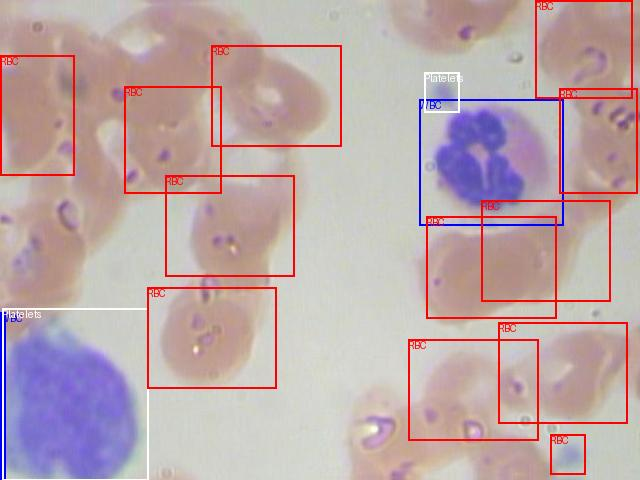Platelets: (2, 308, 148, 480), (424, 72, 459, 112)
RBC: (426, 216, 556, 318), (408, 339, 538, 440), (211, 45, 341, 146), (498, 322, 627, 423), (481, 200, 610, 301), (147, 287, 276, 388), (165, 175, 294, 276), (124, 86, 221, 193), (535, 0, 632, 98), (0, 55, 74, 175), (559, 88, 637, 193), (550, 434, 585, 474)
WBC: (419, 99, 563, 225), (0, 312, 5, 480)
